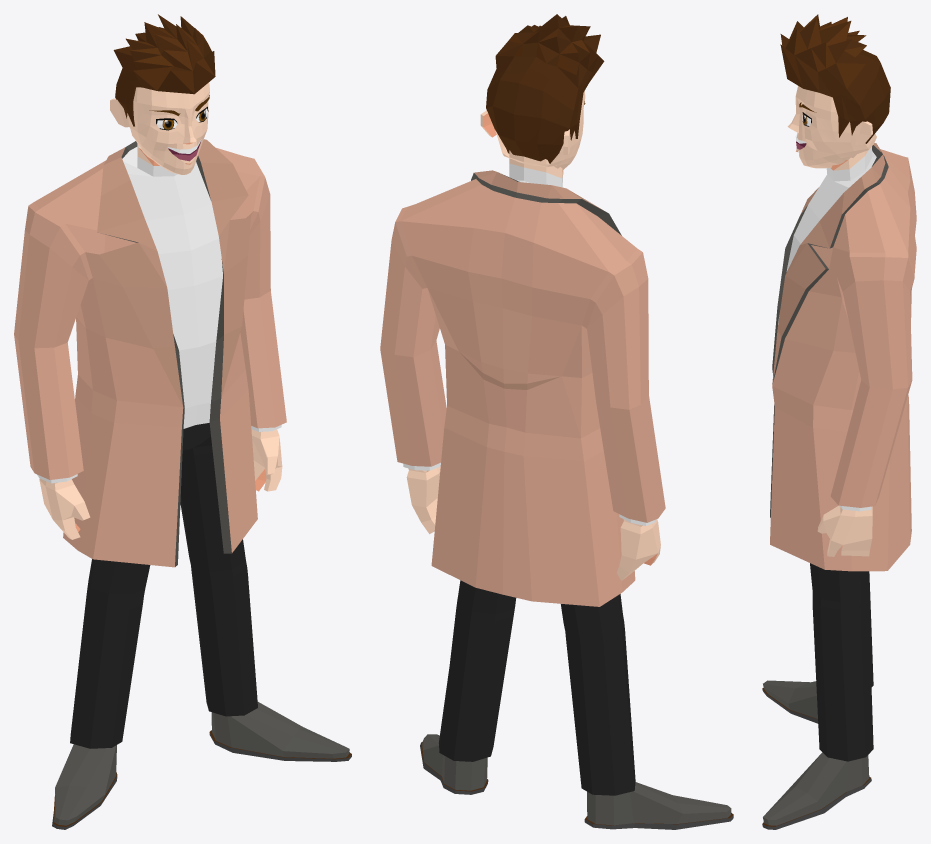
The model's file is low_poly_boy.glb.
3 renders of one model, left to right at view 1: azimuth 30°, elevation 25°; view 2: azimuth 150°, elevation 25°; view 3: azimuth 270°, elevation 25°, orthographic. The views are drawn at different scales.
Visible parts, largest first — view 1: Object_4; view 2: Object_4; view 3: Object_4.
Boxes of the visible parts, <box> form: Object_4: <box>14,14,351,829</box>; Object_4: <box>380,14,733,829</box>; Object_4: <box>762,14,916,829</box>.
Bounding box in the file's own units: 2.14 × 5.18 × 0.9804.
1 material, 1 textured.
